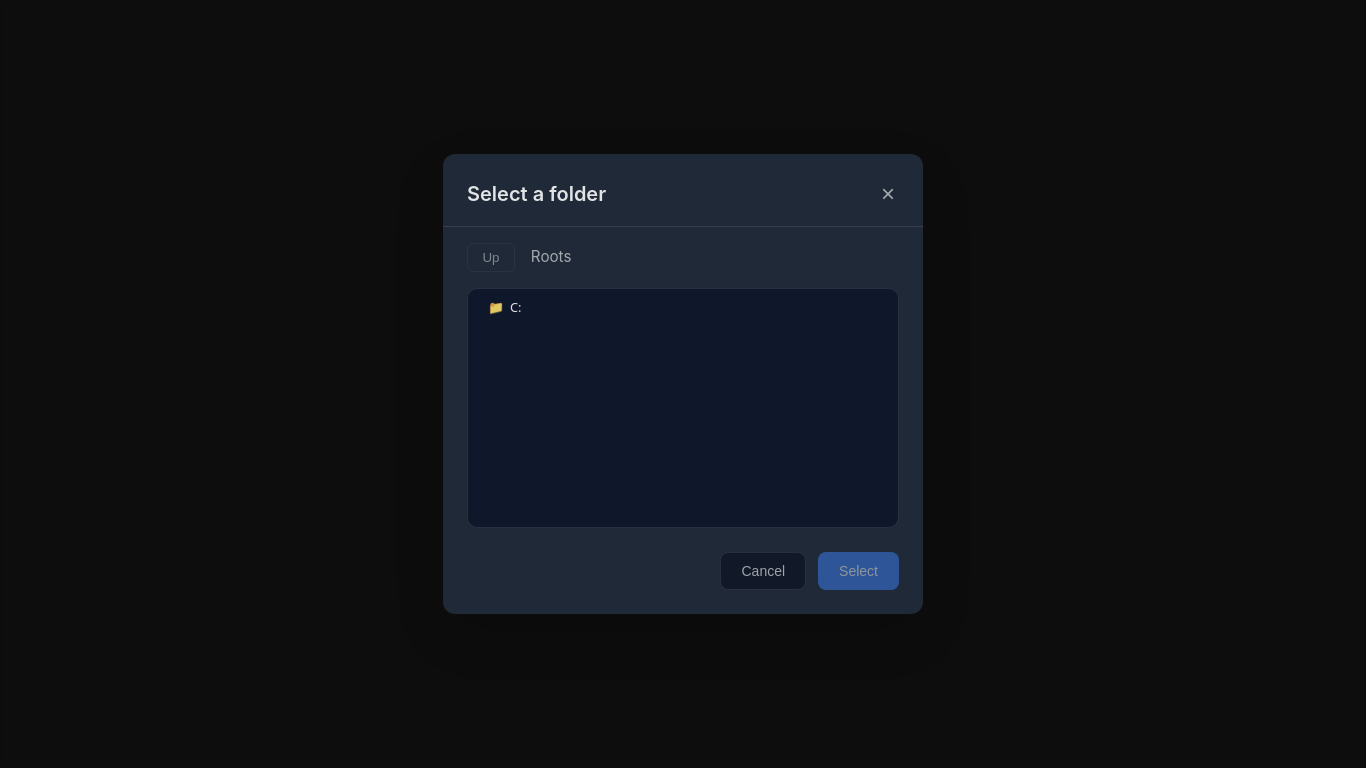
FolderPickerModal › directory load uses default error when response has no message
Step 1. Click the text "C:" → (516, 308), box [510, 299, 522, 317]
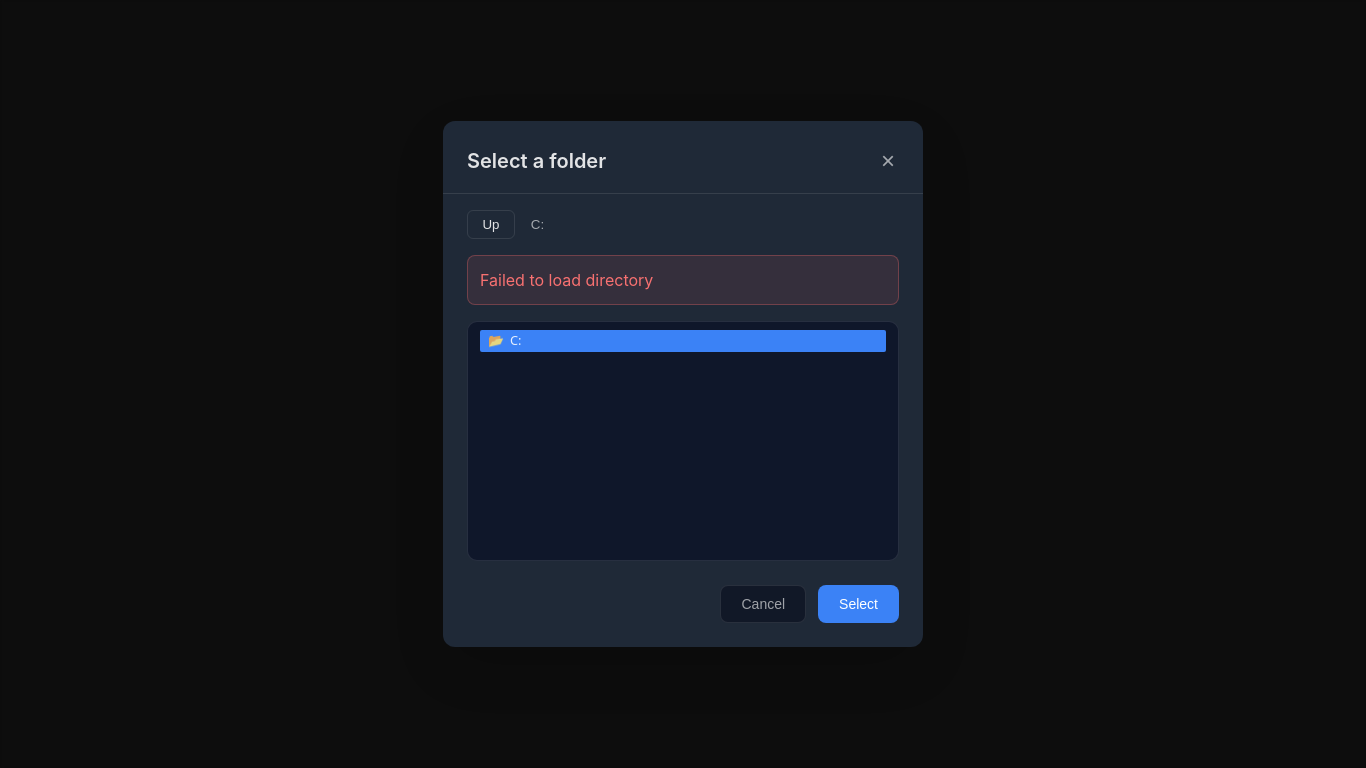
Expected: the text "Failed to load directory" is shown, [467, 255, 899, 305]
